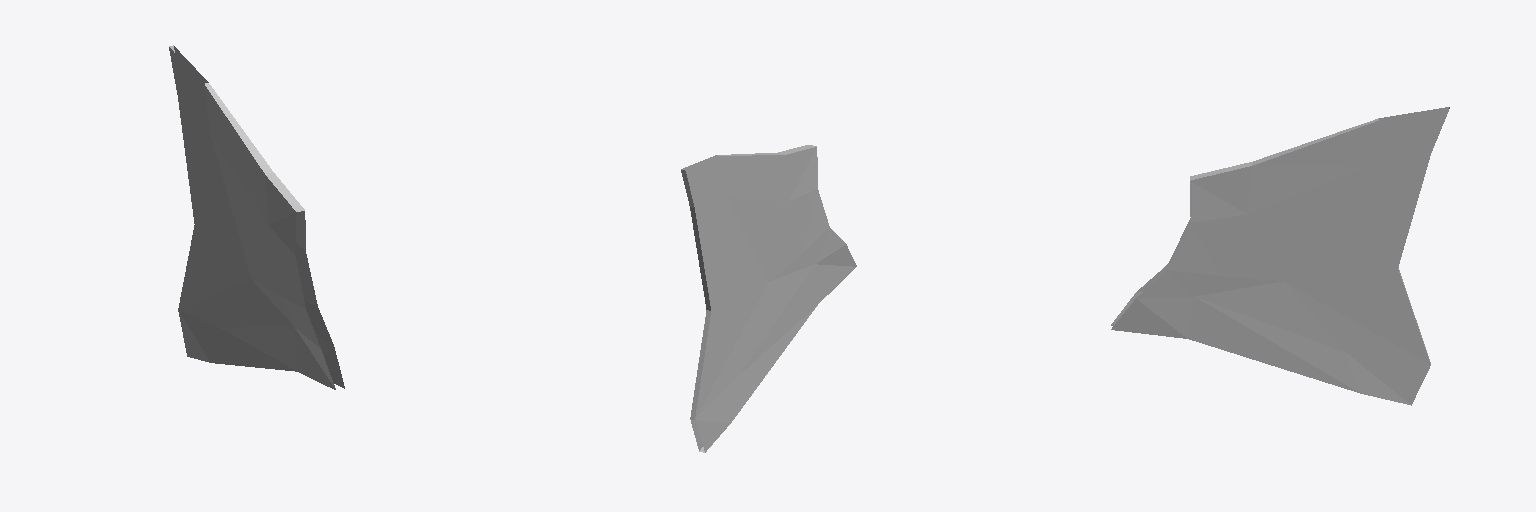
Rendered from colafish.obj.
The picture shows the model from 3 angles: view 1: azimuth 30°, elevation 25°; view 2: azimuth 150°, elevation 25°; view 3: azimuth 270°, elevation 25°; orthographic projection.
Visible parts, largest first — view 1: polySurface3 TropicalFish17:TropicalFish15; view 2: polySurface3 TropicalFish17:TropicalFish15; view 3: polySurface3 TropicalFish17:TropicalFish15.
Boxes of the visible parts, <box> form: polySurface3 TropicalFish17:TropicalFish15: <box>169,45,344,389</box>; polySurface3 TropicalFish17:TropicalFish15: <box>681,145,856,452</box>; polySurface3 TropicalFish17:TropicalFish15: <box>1111,107,1449,405</box>.
Size of the model in its own units: 0.0289 by 0.6272 by 0.6513.